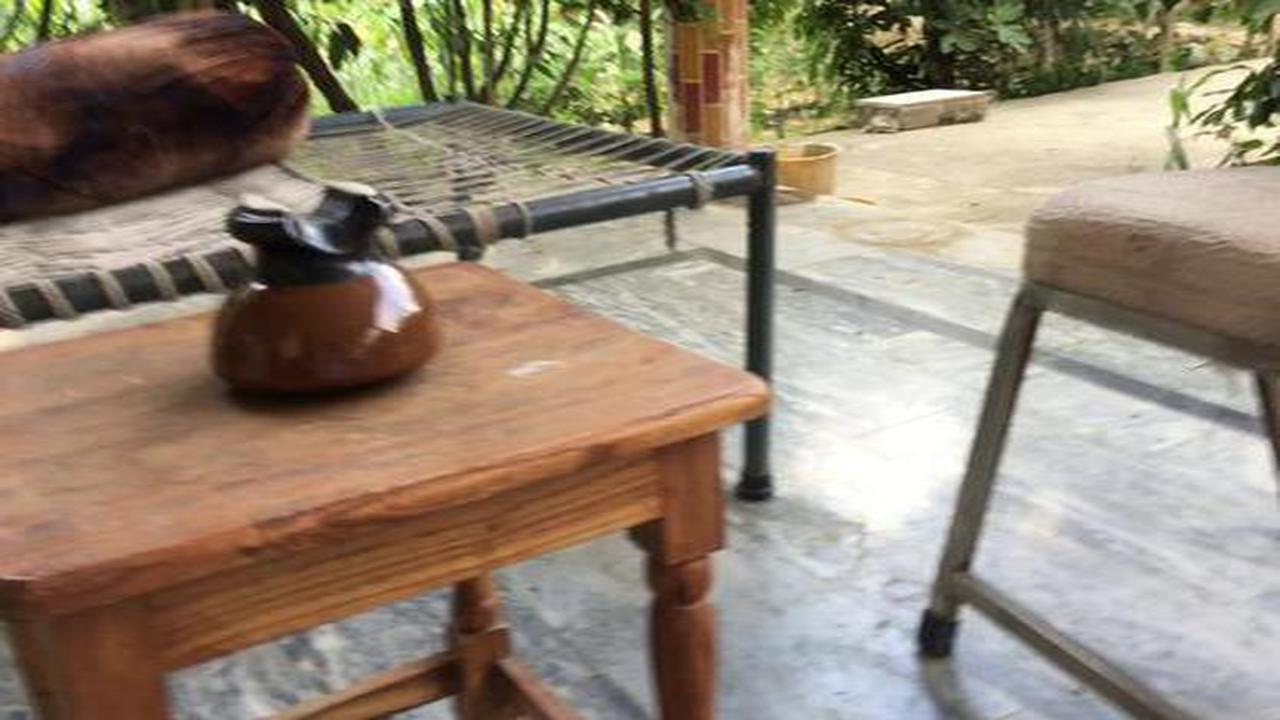insulator_pin: (200, 172, 453, 418)
